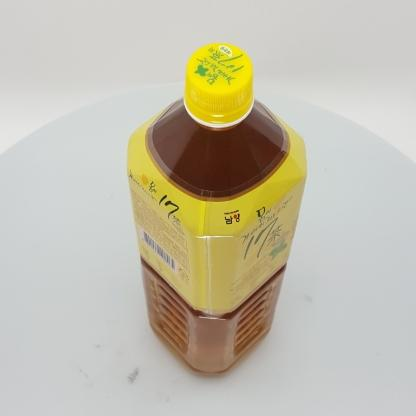--17----1-5L: (127, 43, 307, 376)
